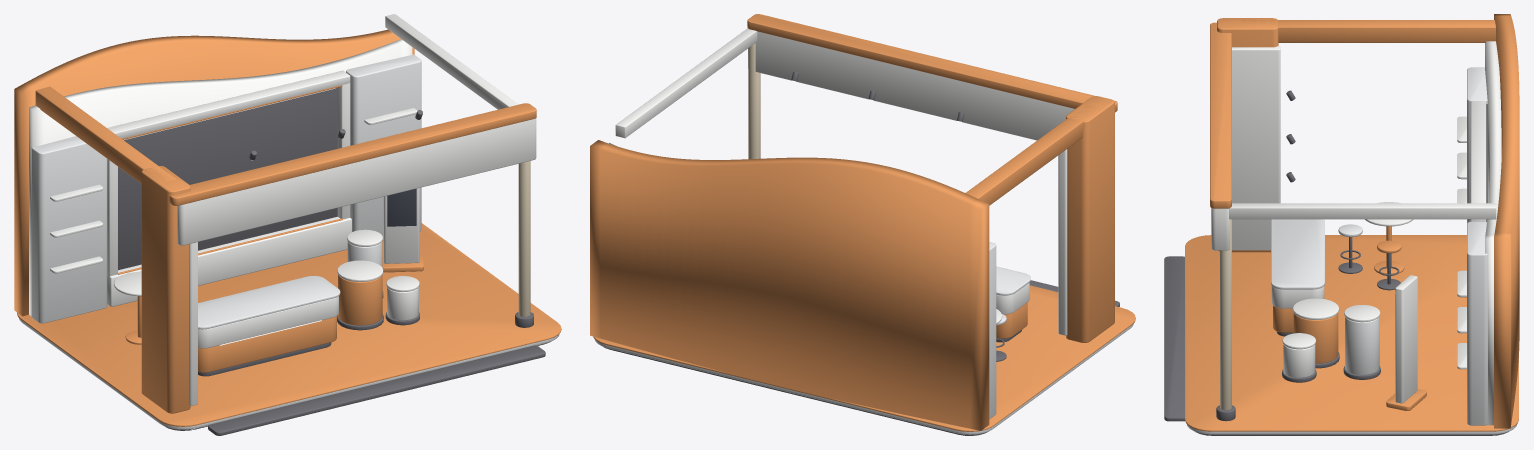
The model's file is booth_04_wave_pavilion_v27_3.glb.
3 views of the same model, side by side, from view 1: azimuth 30°, elevation 25°; view 2: azimuth 150°, elevation 25°; view 3: azimuth 270°, elevation 25° (orthographic).
Parts seen in each view (by area): view 1: V273_Booth04_WavePavilion_Wave_Architectural_Orange, V273_Booth04_WavePavilion_Wave_Crisp_White, V273_Booth04_WavePavilion_Wave_Light_Gray, V273_Booth04_WavePavilion_Wave_Dark_Charcoal, V273_Booth04_WavePavilion_Wave_Brushed_Champagne, V273_Booth04_WavePavilion_Wave_Screen_Glass; view 2: V273_Booth04_WavePavilion_Wave_Architectural_Orange, V273_Booth04_WavePavilion_Wave_Crisp_White, V273_Booth04_WavePavilion_Wave_Light_Gray, V273_Booth04_WavePavilion_Wave_Brushed_Champagne, V273_Booth04_WavePavilion_Wave_Dark_Charcoal; view 3: V273_Booth04_WavePavilion_Wave_Architectural_Orange, V273_Booth04_WavePavilion_Wave_Crisp_White, V273_Booth04_WavePavilion_Wave_Light_Gray, V273_Booth04_WavePavilion_Wave_Dark_Charcoal, V273_Booth04_WavePavilion_Wave_Brushed_Champagne.
Part boxes in pixels (bbox=[...]): V273_Booth04_WavePavilion_Wave_Architectural_Orange: bbox=[14, 29, 561, 426]; V273_Booth04_WavePavilion_Wave_Crisp_White: bbox=[29, 14, 536, 405]; V273_Booth04_WavePavilion_Wave_Light_Gray: bbox=[19, 54, 559, 429]; V273_Booth04_WavePavilion_Wave_Dark_Charcoal: bbox=[118, 88, 550, 435]; V273_Booth04_WavePavilion_Wave_Brushed_Champagne: bbox=[518, 161, 530, 317]; V273_Booth04_WavePavilion_Wave_Screen_Glass: bbox=[387, 188, 416, 226]; V273_Booth04_WavePavilion_Wave_Architectural_Orange: bbox=[590, 14, 1135, 431]; V273_Booth04_WavePavilion_Wave_Crisp_White: bbox=[609, 28, 1074, 335]; V273_Booth04_WavePavilion_Wave_Light_Gray: bbox=[594, 242, 1133, 434]; V273_Booth04_WavePavilion_Wave_Brushed_Champagne: bbox=[748, 43, 760, 159]; V273_Booth04_WavePavilion_Wave_Dark_Charcoal: bbox=[604, 71, 1119, 435]; V273_Booth04_WavePavilion_Wave_Architectural_Orange: bbox=[1185, 14, 1519, 431]; V273_Booth04_WavePavilion_Wave_Crisp_White: bbox=[1211, 41, 1501, 425]; V273_Booth04_WavePavilion_Wave_Light_Gray: bbox=[1186, 67, 1517, 434]; V273_Booth04_WavePavilion_Wave_Dark_Charcoal: bbox=[1164, 90, 1508, 435]; V273_Booth04_WavePavilion_Wave_Brushed_Champagne: bbox=[1220, 219, 1231, 410].
Size of the model in its own units: 7.2 by 4.24 by 5.53.
